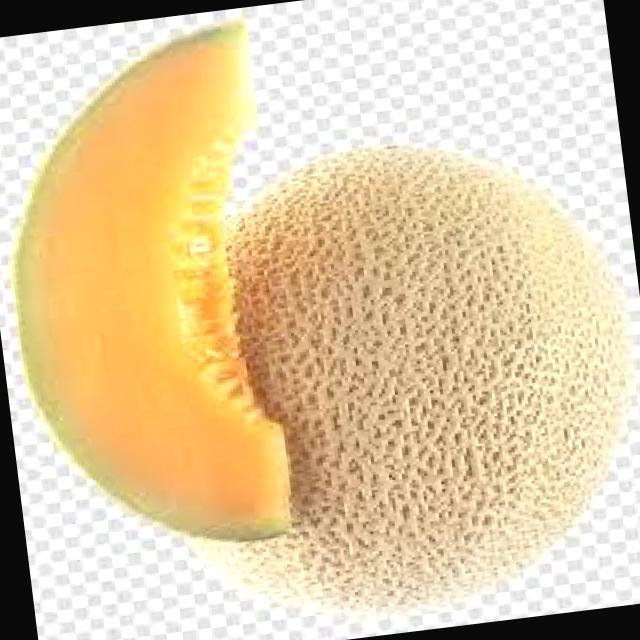cantaloupe: (221, 120, 640, 629), (0, 20, 311, 565)
